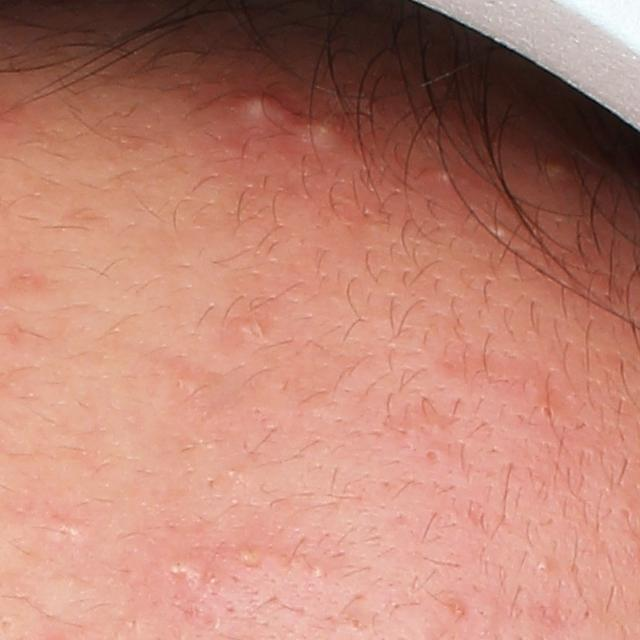comedo: (423, 446, 442, 465), (536, 560, 550, 575)
pustule: (163, 552, 208, 587), (233, 537, 272, 577)
